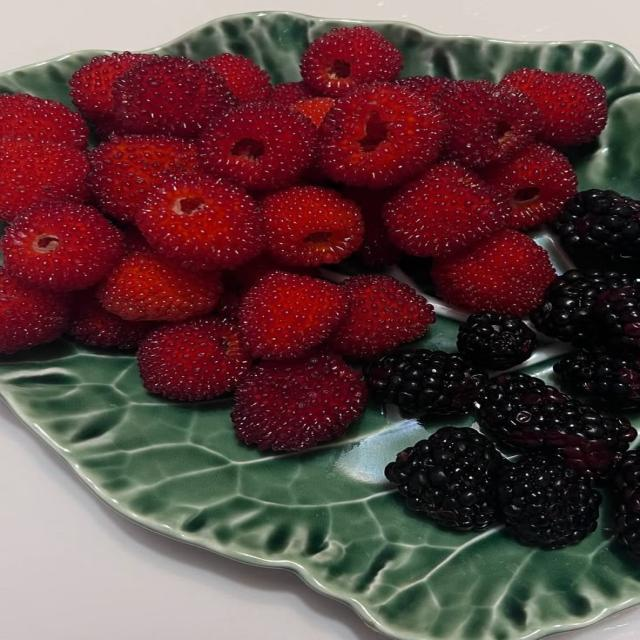raspberry: (475, 373, 637, 476), (318, 84, 446, 188), (232, 354, 366, 450), (385, 427, 509, 530), (135, 177, 264, 270), (384, 162, 508, 257), (0, 204, 124, 292), (432, 230, 555, 316), (202, 103, 316, 189), (114, 56, 235, 137), (499, 454, 601, 549), (89, 135, 200, 221), (137, 317, 250, 401), (239, 272, 348, 358), (328, 275, 435, 357), (437, 81, 540, 166), (98, 251, 222, 321), (501, 68, 607, 146), (261, 186, 363, 266), (483, 143, 577, 229), (364, 350, 486, 415), (531, 270, 632, 347), (0, 138, 88, 221), (301, 26, 403, 96), (553, 189, 639, 270), (69, 52, 154, 133), (0, 267, 68, 353), (68, 290, 155, 349), (554, 350, 639, 409), (0, 94, 87, 148), (342, 188, 400, 267), (457, 312, 537, 369), (201, 53, 272, 103), (593, 281, 639, 354), (232, 253, 317, 291), (614, 450, 639, 559), (393, 76, 455, 100), (292, 97, 335, 127), (216, 279, 242, 323), (270, 82, 316, 106), (122, 225, 150, 252)
